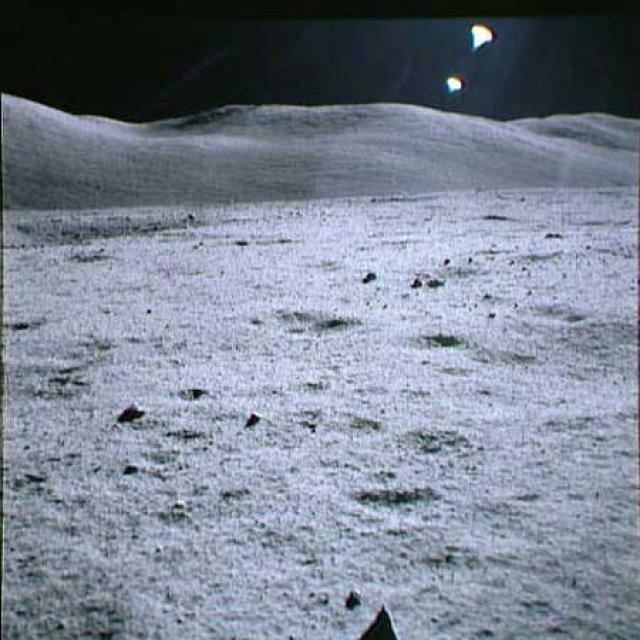crater: (0, 200, 201, 246), (245, 305, 376, 346), (405, 330, 460, 354)
rock: (398, 260, 450, 293)
